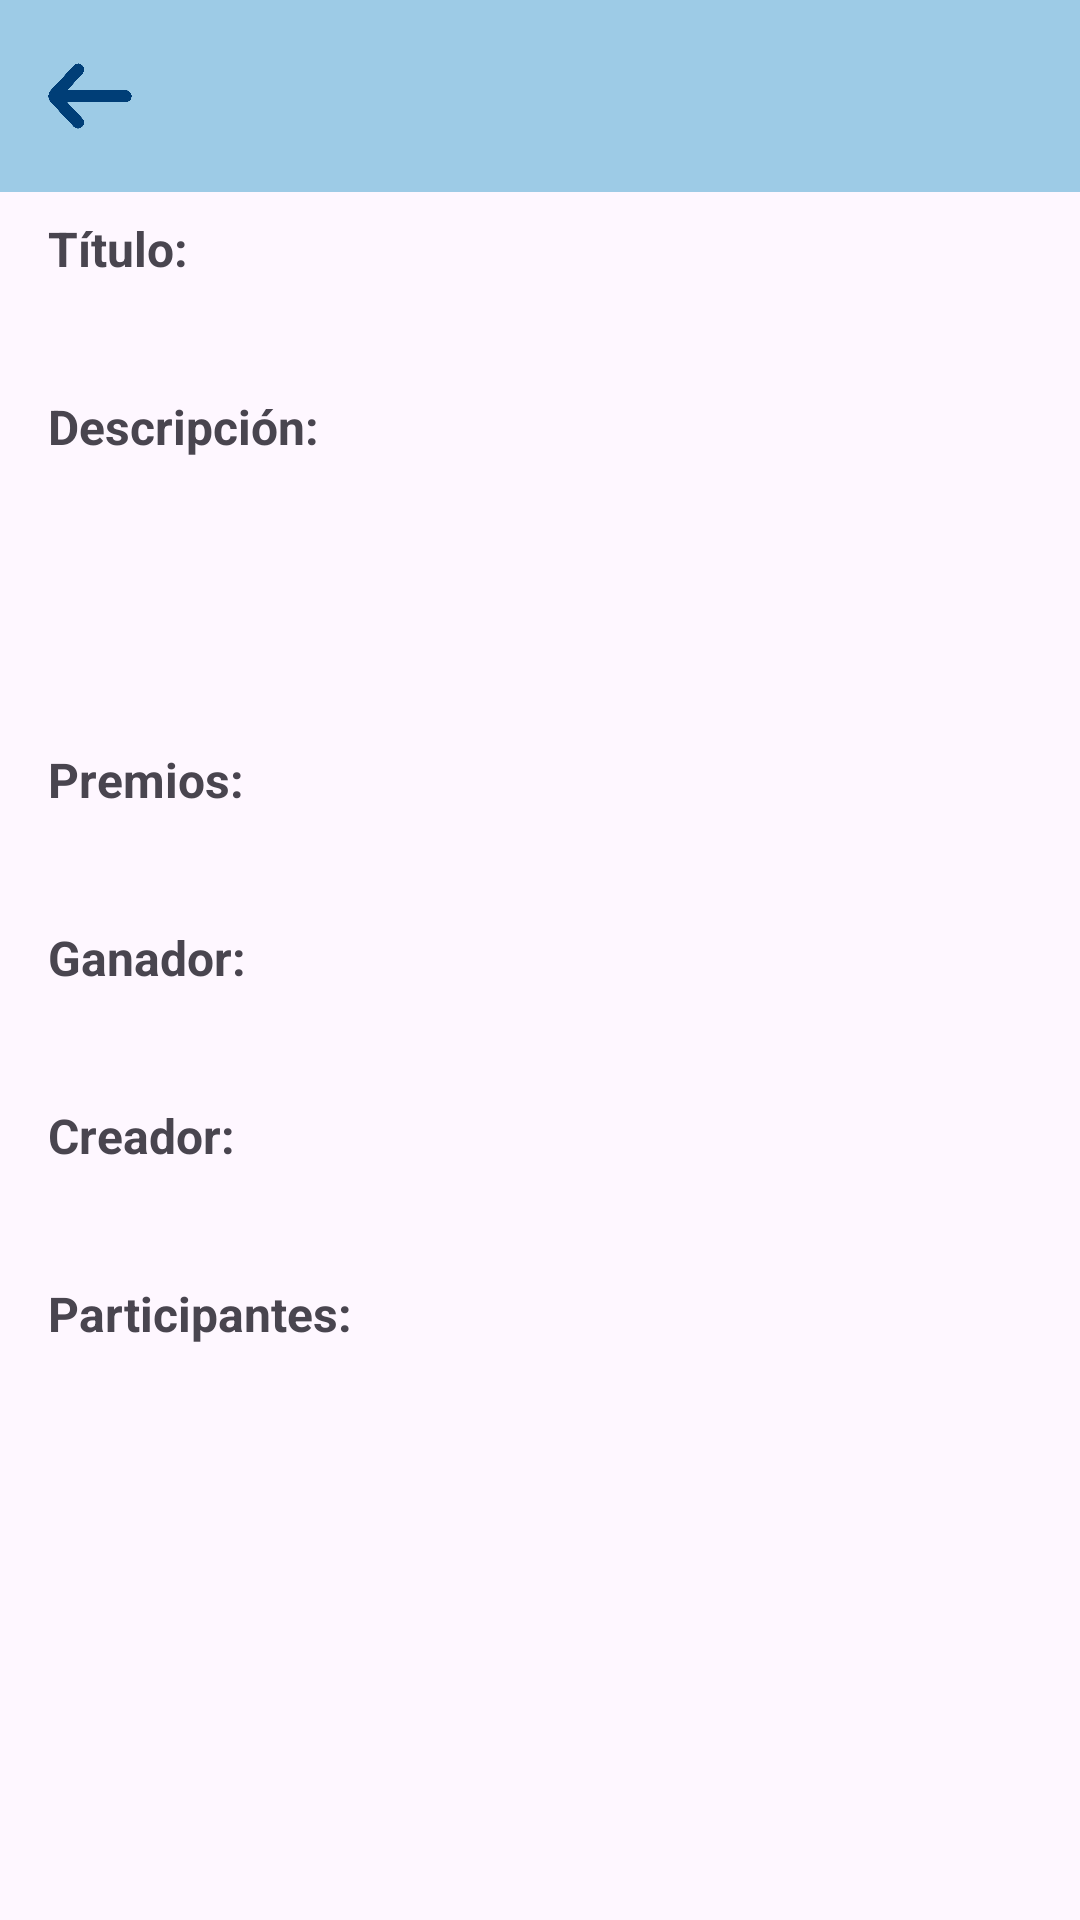

Locate icon controls on the screen. Image size 1080 × 1920, boxes as [left=x1, top=y1, right=x2, bottom=y2].
flecha: [left=48, top=63, right=132, bottom=129]
